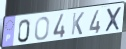0: (17, 18, 32, 44)
4: (52, 13, 67, 40), (88, 8, 102, 34)
K: (70, 11, 85, 36)
O: (34, 16, 51, 41)
X: (104, 6, 122, 33)
